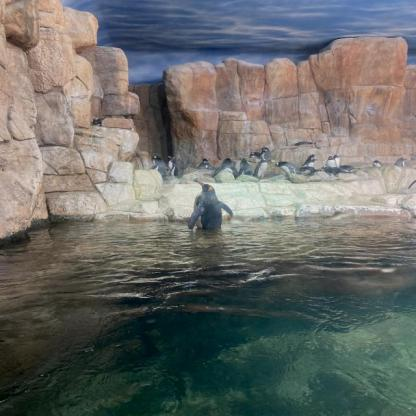penguin: (186, 180, 233, 233), (277, 162, 301, 179), (150, 155, 166, 180), (236, 156, 252, 180), (303, 155, 318, 177), (258, 146, 276, 164), (323, 156, 337, 172), (394, 152, 406, 170), (198, 157, 212, 172), (334, 154, 344, 170), (222, 158, 232, 169), (371, 162, 382, 171)
